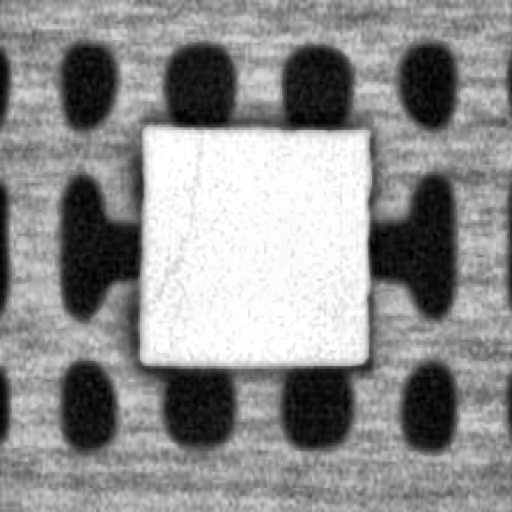DIE_CRACK: (142, 135, 200, 305)
